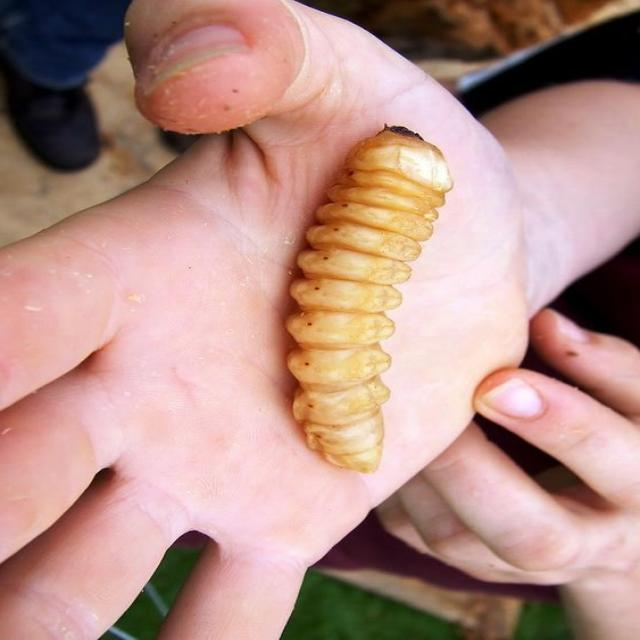grub: (277, 131, 468, 484)
